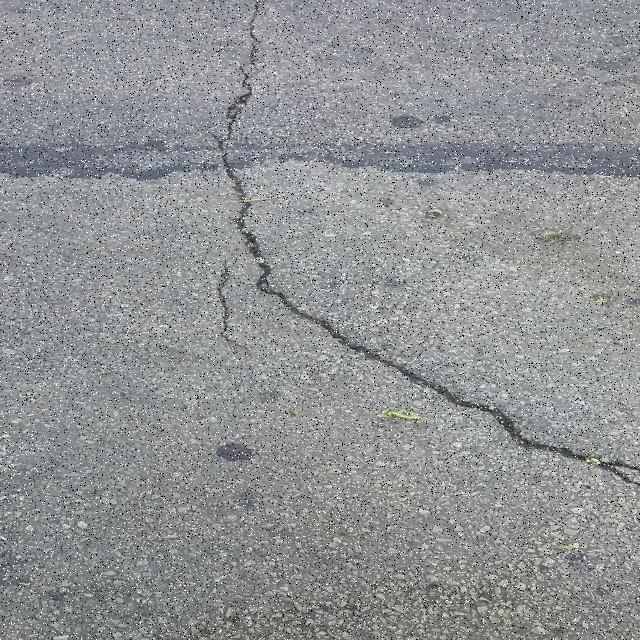Crack: (208, 0, 640, 490), (214, 261, 253, 357)
